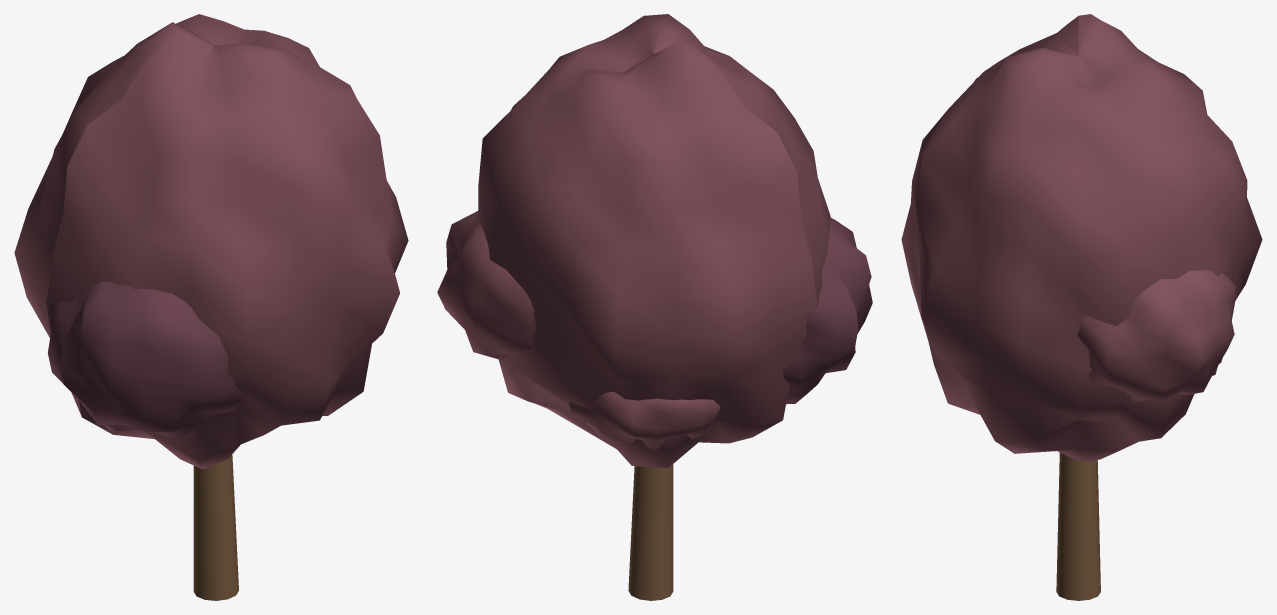
File: crimson-snow.glb
3 views of the same model, side by side, from view 1: azimuth 30°, elevation 25°; view 2: azimuth 150°, elevation 25°; view 3: azimuth 270°, elevation 25° (orthographic). The views are drawn at different scales.
Parts seen in each view (by area): view 1: korona-1, korona-2, torzs; view 2: korona-1, korona-3, korona-2, torzs, korona-5; view 3: korona-1, korona-3, torzs.
Boxes of the visible parts, bbox=[...] form: korona-1: bbox=[14, 14, 408, 469]; korona-2: bbox=[45, 281, 241, 439]; torzs: bbox=[193, 454, 238, 600]; korona-1: bbox=[478, 14, 830, 467]; korona-3: bbox=[437, 211, 536, 361]; korona-2: bbox=[782, 218, 872, 404]; torzs: bbox=[628, 464, 673, 600]; korona-5: bbox=[569, 391, 720, 450]; korona-1: bbox=[901, 14, 1262, 461]; korona-3: bbox=[1077, 270, 1235, 403]; torzs: bbox=[1056, 452, 1100, 600].
Size of the model in its own units: 6.57 by 10.31 by 6.02.
